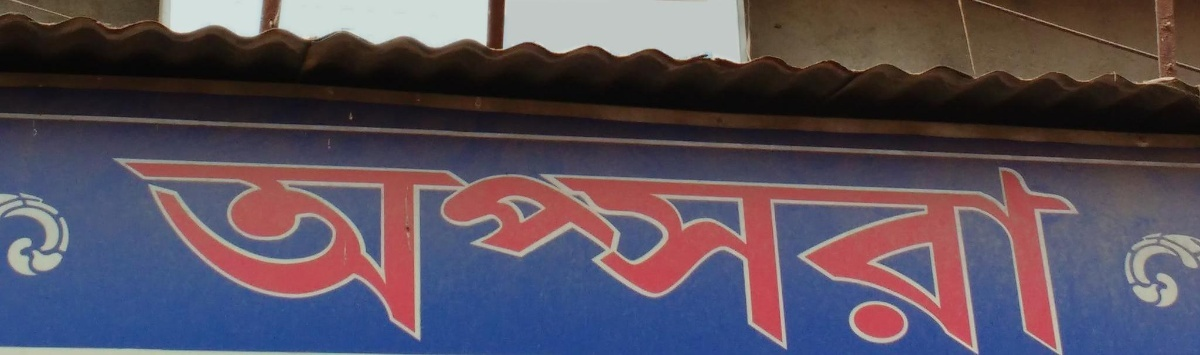text: (113, 124, 128, 355), (129, 124, 144, 355), (145, 124, 160, 355), (161, 124, 176, 355), (177, 124, 192, 355), (193, 124, 208, 355), (209, 124, 224, 355), (225, 124, 240, 355), (241, 124, 256, 355), (257, 124, 272, 355), (273, 124, 288, 355), (289, 124, 304, 355), (305, 124, 320, 355), (321, 124, 336, 355), (337, 124, 352, 355), (353, 124, 368, 355), (369, 124, 384, 355), (385, 124, 400, 355), (401, 124, 416, 355), (417, 124, 432, 355), (433, 124, 448, 355), (449, 124, 464, 355), (465, 124, 480, 355), (481, 124, 496, 355), (497, 124, 512, 355), (513, 124, 528, 355), (529, 124, 544, 355), (545, 124, 560, 355), (561, 124, 576, 355), (577, 124, 592, 355), (593, 124, 608, 355), (609, 124, 624, 355), (625, 124, 640, 355), (641, 124, 656, 355), (657, 124, 672, 355), (673, 124, 688, 355), (689, 124, 704, 355), (705, 124, 720, 355), (721, 124, 736, 355), (737, 124, 752, 355), (753, 124, 768, 355), (769, 124, 784, 355), (785, 124, 800, 355), (801, 124, 816, 355), (817, 124, 832, 355), (833, 124, 848, 355), (849, 124, 864, 355), (865, 124, 880, 355), (881, 124, 896, 355), (897, 124, 912, 355), (913, 124, 928, 355), (929, 124, 944, 355), (945, 124, 960, 355), (961, 124, 976, 355), (977, 124, 992, 355), (993, 124, 1008, 355), (1009, 124, 1024, 355), (1025, 124, 1040, 355), (1041, 124, 1056, 355), (1057, 124, 1072, 355), (1073, 124, 1088, 355), (98, 124, 112, 355), (1089, 124, 1097, 355)
